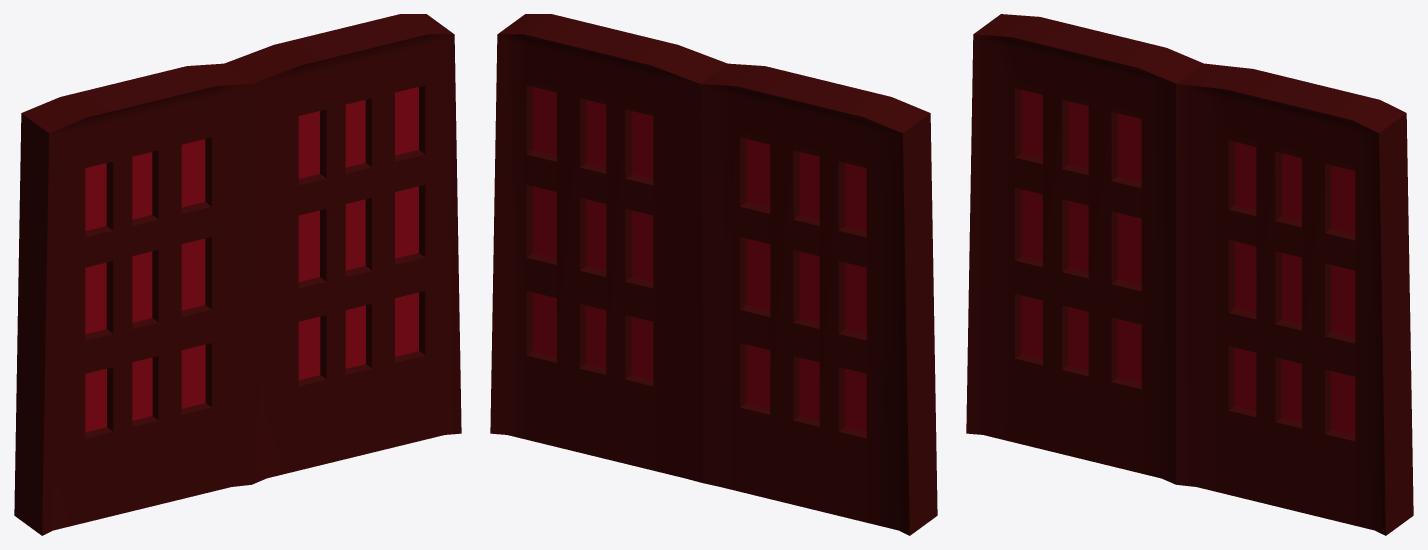
Rendered from cloesdDoors.fbx.
3 renders of one model, left to right at view 1: azimuth 30°, elevation 25°; view 2: azimuth 150°, elevation 25°; view 3: azimuth 330°, elevation 25°, orthographic.
Visible parts, largest first — view 1: pCube3; view 2: pCube3; view 3: pCube3.
Part boxes in pixels (bbox=[...]): pCube3: bbox=[14, 14, 461, 535]; pCube3: bbox=[490, 14, 937, 535]; pCube3: bbox=[966, 14, 1413, 535].
Bounding box in the file's own units: 6.32 × 5.87 × 0.725.
